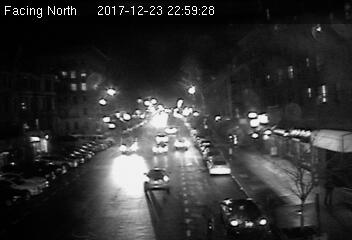car: (219, 194, 268, 233), (143, 168, 172, 191), (205, 156, 233, 175), (119, 139, 138, 156), (151, 143, 168, 154), (174, 137, 188, 150)
